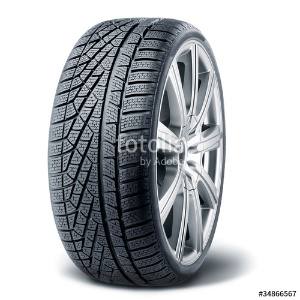tire: (47, 18, 224, 287)
